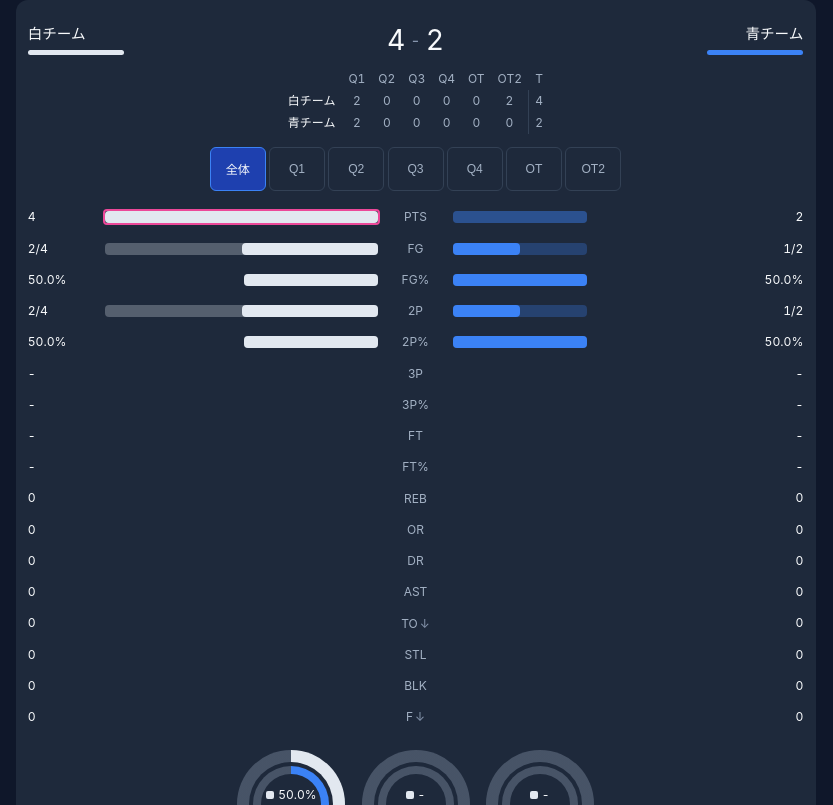
Test: 無得点の延長がある試合 › OTを選ぶと、そのOTで記録したスタッツが読める
Click the button "OT": coordinates (534, 168) [506,146,562,190]
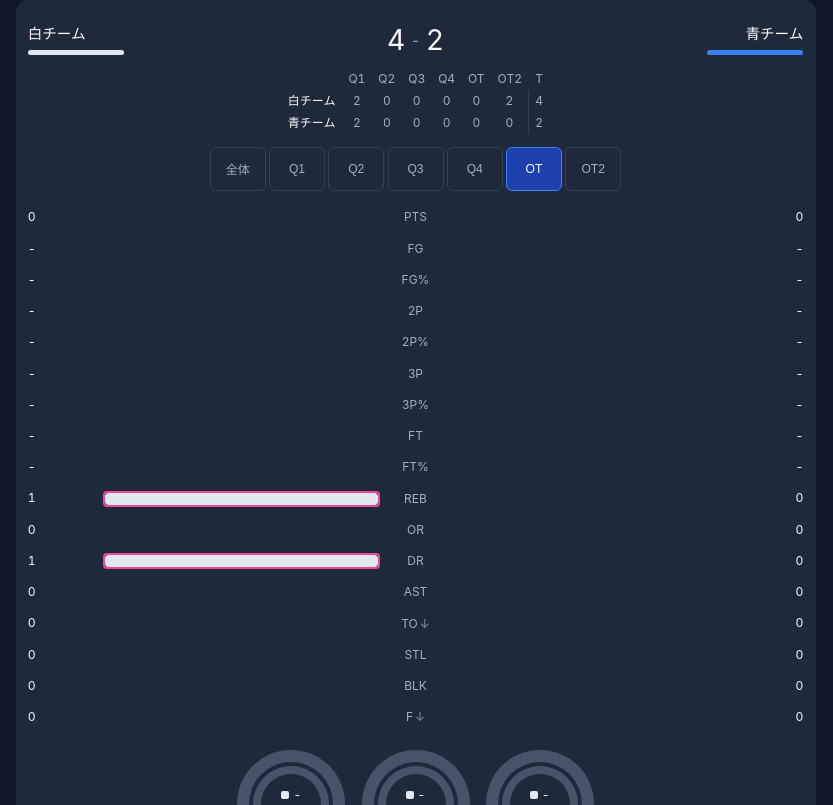
expect the element showing "1 DR 0" is shown: met, box [28,553,803,569]
